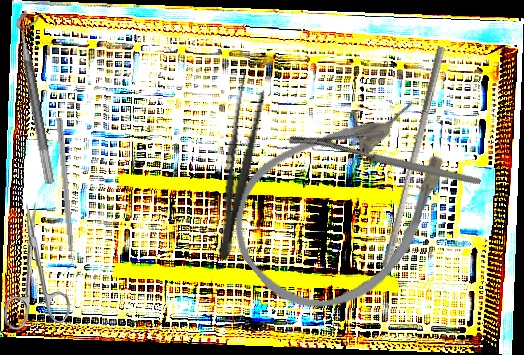Cannula: (204, 65, 490, 342)
Chopper: (48, 117, 76, 273)
Dressing Forceps: (208, 72, 270, 263)
Fixation Ring: (13, 8, 70, 185)
Iris Scissors: (0, 201, 71, 331)
Needle Holder: (287, 82, 482, 240)
Pusher: (381, 44, 446, 270)
